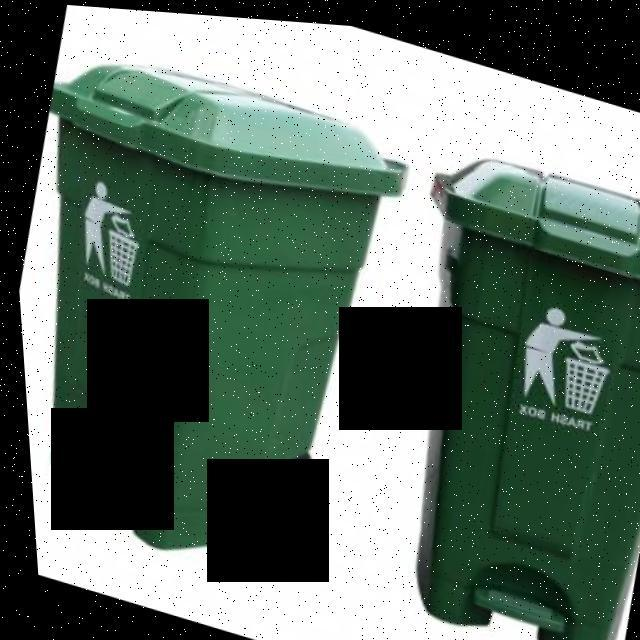bin: (1, 15, 456, 621), (302, 102, 640, 640)
